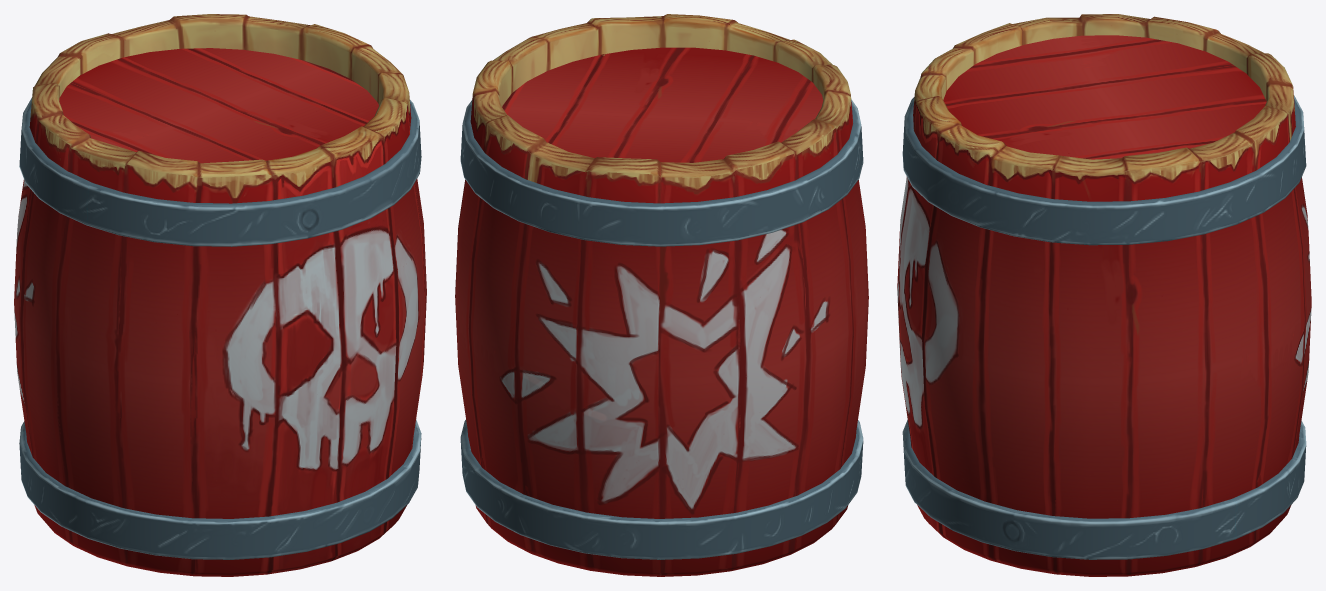
File: explodingjr.dae
3 renders of one model, left to right at view 1: azimuth 30°, elevation 25°; view 2: azimuth 150°, elevation 25°; view 3: azimuth 270°, elevation 25°, orthographic.
Visible parts, largest first — view 1: Cylinder.002_2, Cylinder.003_4, Cylinder_1, Cylinder.001_3; view 2: Cylinder.002_2, Cylinder.003_4, Cylinder_1, Cylinder.001_3; view 3: Cylinder.002_2, Cylinder.003_4, Cylinder_1, Cylinder.001_3.
Part boxes in pixels (x1,y1,x2,y2): Cylinder.002_2: [14, 14, 426, 576]; Cylinder.003_4: [59, 48, 378, 163]; Cylinder_1: [19, 98, 421, 246]; Cylinder.001_3: [19, 419, 421, 559]; Cylinder.002_2: [455, 14, 868, 576]; Cylinder.003_4: [502, 47, 823, 162]; Cylinder_1: [460, 99, 863, 246]; Cylinder.001_3: [460, 420, 863, 559]; Cylinder.002_2: [897, 14, 1311, 576]; Cylinder.003_4: [943, 35, 1266, 159]; Cylinder_1: [902, 95, 1306, 245]; Cylinder.001_3: [902, 420, 1306, 559].
Size of the model in its own units: 2.07 by 2.07 by 2.29.
Materials: 2 (2 with a texture image).
